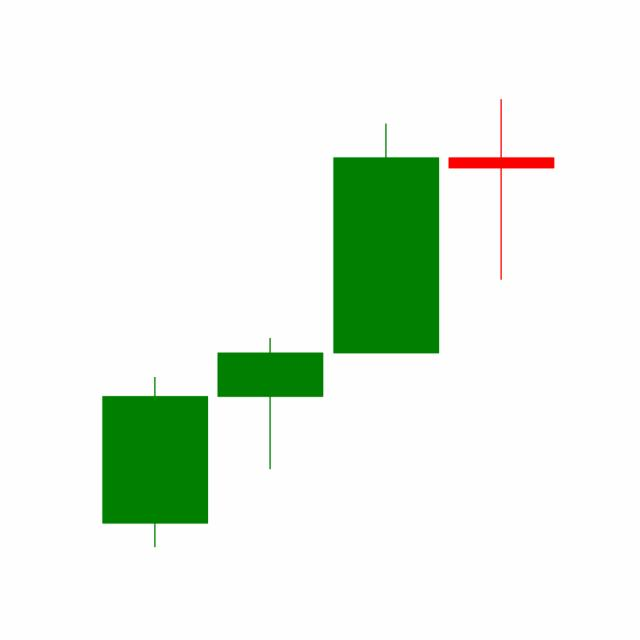Spinning Top: (443, 96, 559, 281)
